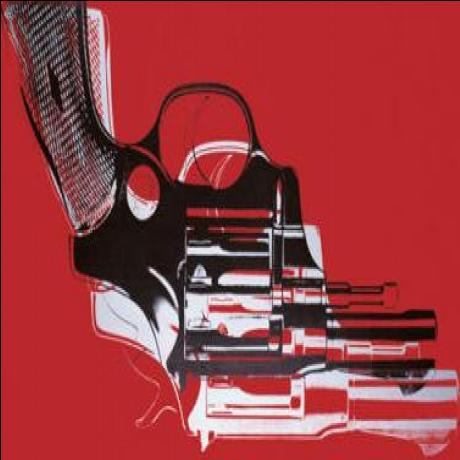weapon: (0, 1, 442, 366)
